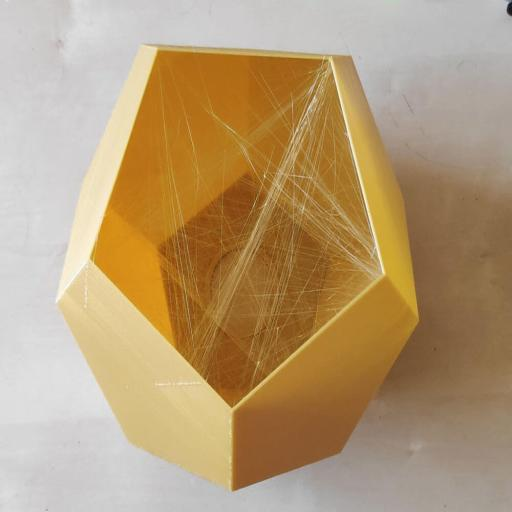stringing: (162, 58, 380, 399)
